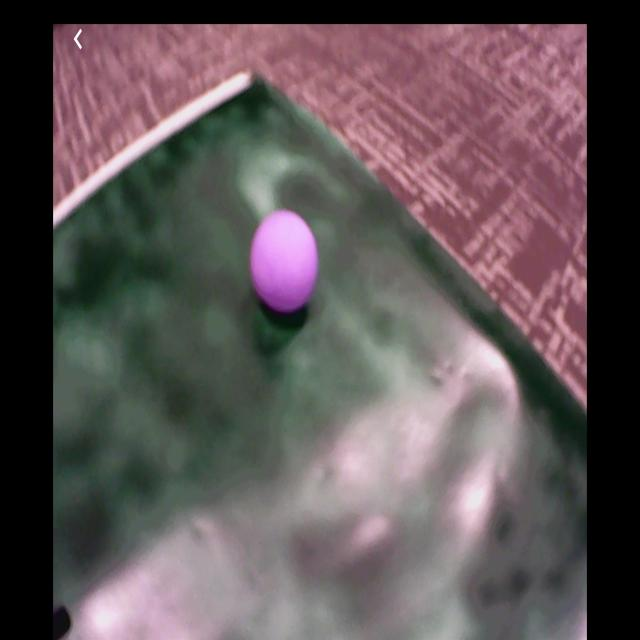ball: (253, 213, 320, 315)
